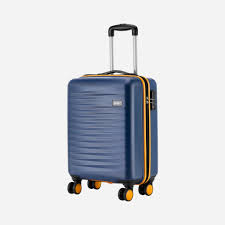suitcase: (62, 22, 157, 199)
